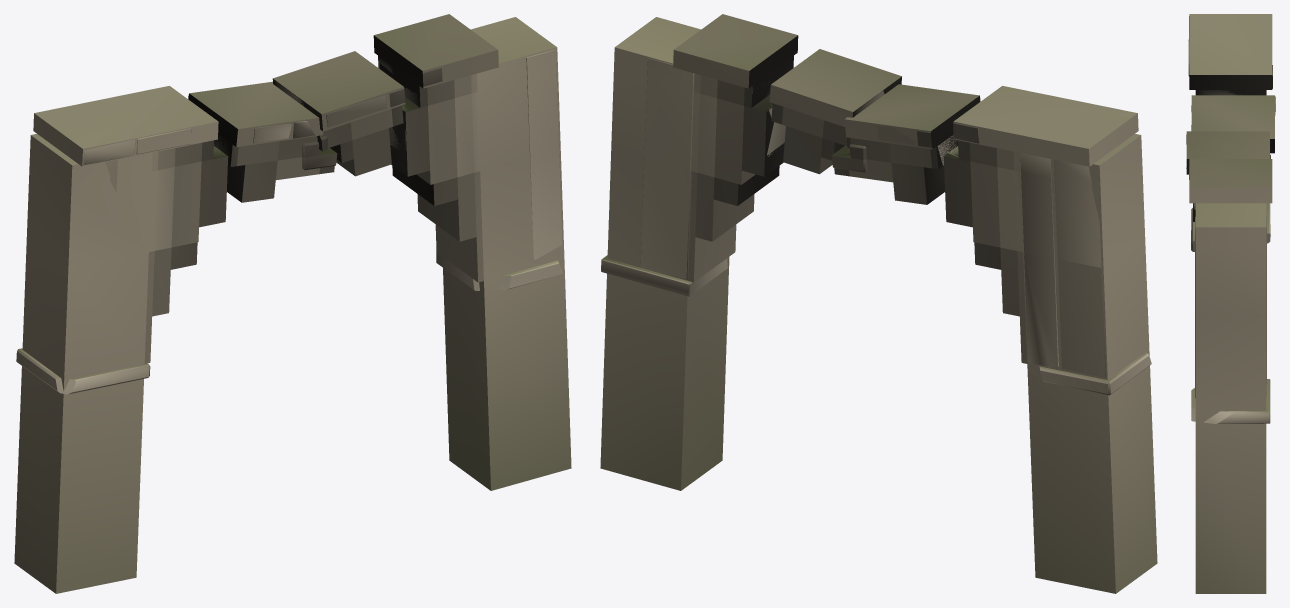
Rendered from tombs_arch_cracked.glb.
The picture shows the model from 3 angles, left to right: view 1: azimuth 30°, elevation 25°; view 2: azimuth 150°, elevation 25°; view 3: azimuth 270°, elevation 25°; orthographic projection. The views are drawn at different scales.
Visible parts, largest first — view 1: tombs_arch_cracked_far, tombs_arch_cracked; view 2: tombs_arch_cracked_far, tombs_arch_cracked; view 3: tombs_arch_cracked_far, tombs_arch_cracked.
Part boxes in pixels (box(x1,y1,x2,y2)): tombs_arch_cracked_far: box(14, 14, 571, 593); tombs_arch_cracked: box(16, 36, 563, 394); tombs_arch_cracked_far: box(600, 14, 1157, 593); tombs_arch_cracked: box(601, 36, 1151, 395); tombs_arch_cracked_far: box(1186, 14, 1274, 593); tombs_arch_cracked: box(1186, 16, 1275, 423).
Size of the model in its own units: 24.31 by 20.07 by 4.29.
